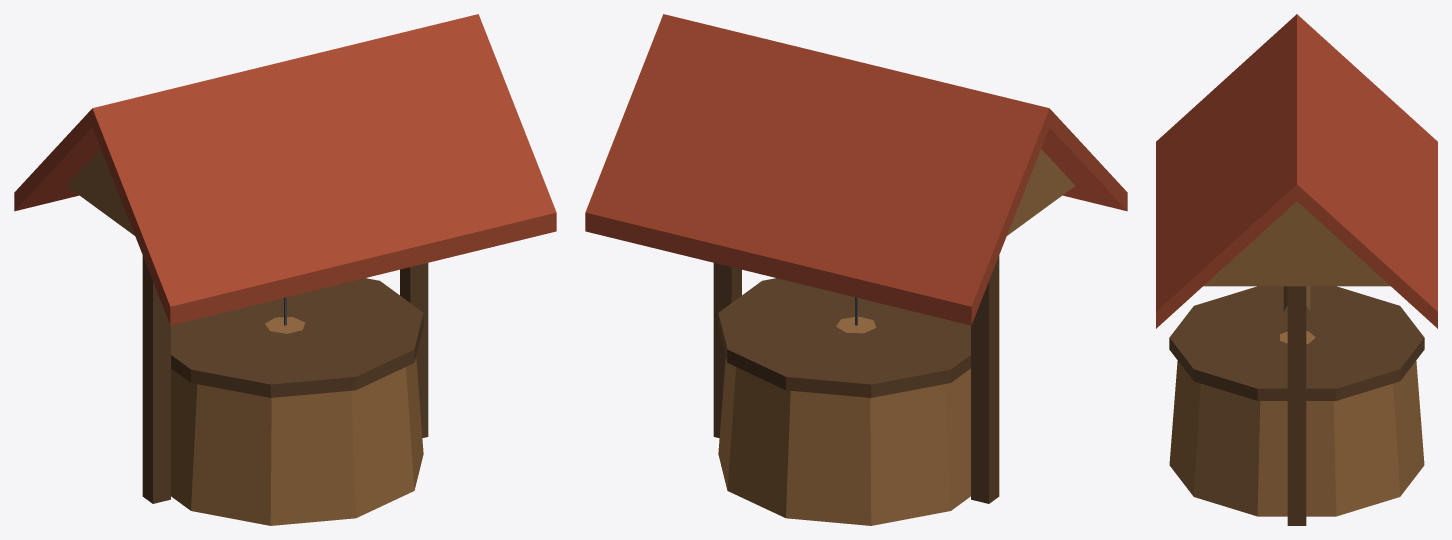
File: well_2.glb
3 renders of one model, left to right at view 1: azimuth 30°, elevation 25°; view 2: azimuth 150°, elevation 25°; view 3: azimuth 270°, elevation 25°, orthographic. The views are drawn at different scales.
Visible parts, largest first — view 1: well_2; view 2: well_2; view 3: well_2.
Boxes of the visible parts, bbox=[...] form: well_2: bbox=[14, 14, 556, 525]; well_2: bbox=[585, 14, 1127, 525]; well_2: bbox=[1156, 14, 1437, 525].
Size of what is drawn, in the model's own units: 3 by 3.01 by 2.1.
